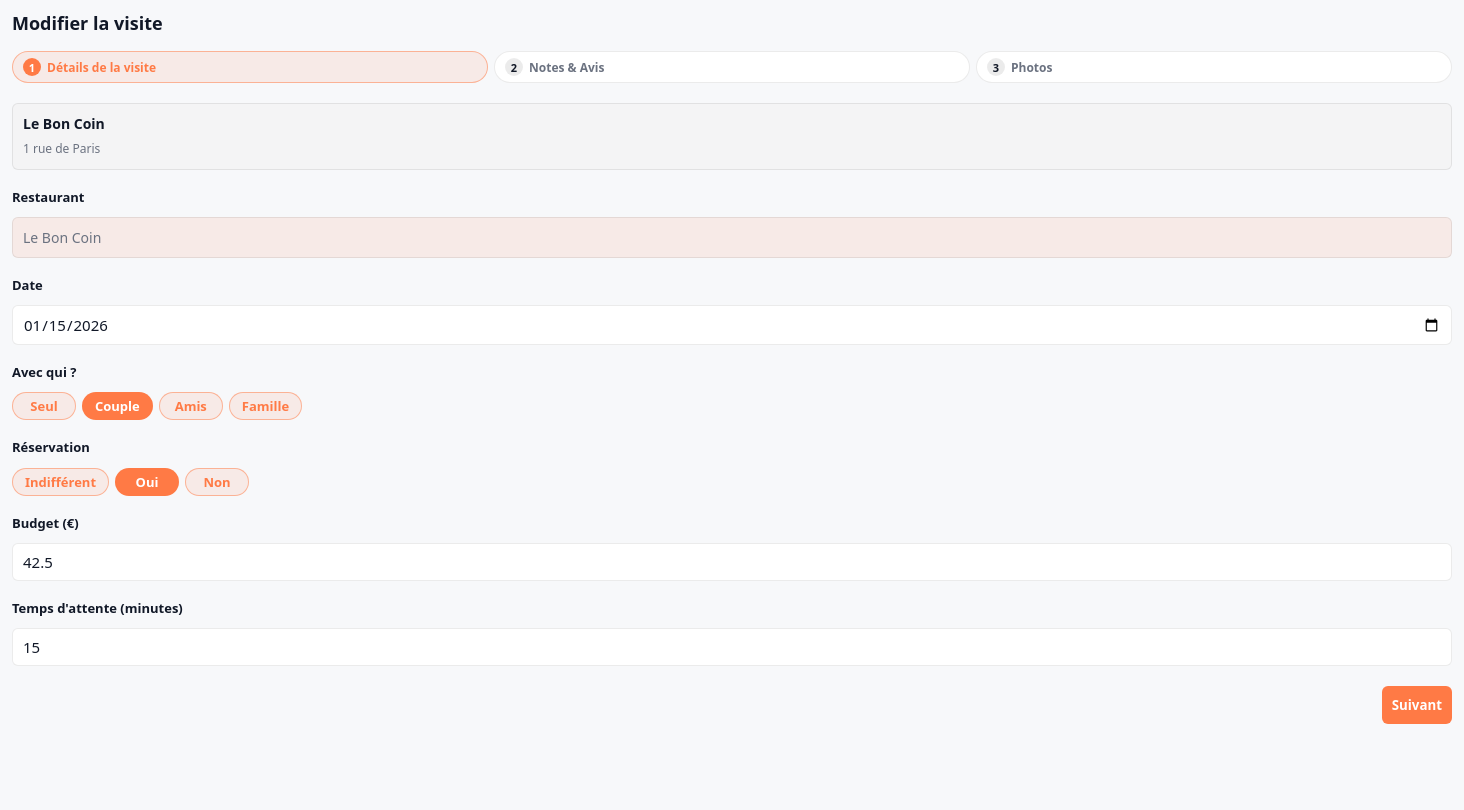
Test: AddVisitForm › affiche la note et le commentaire à l'étape "Notes & Avis"
Click the button "Suivant" at (1417, 705), box [1382,686,1452,724]
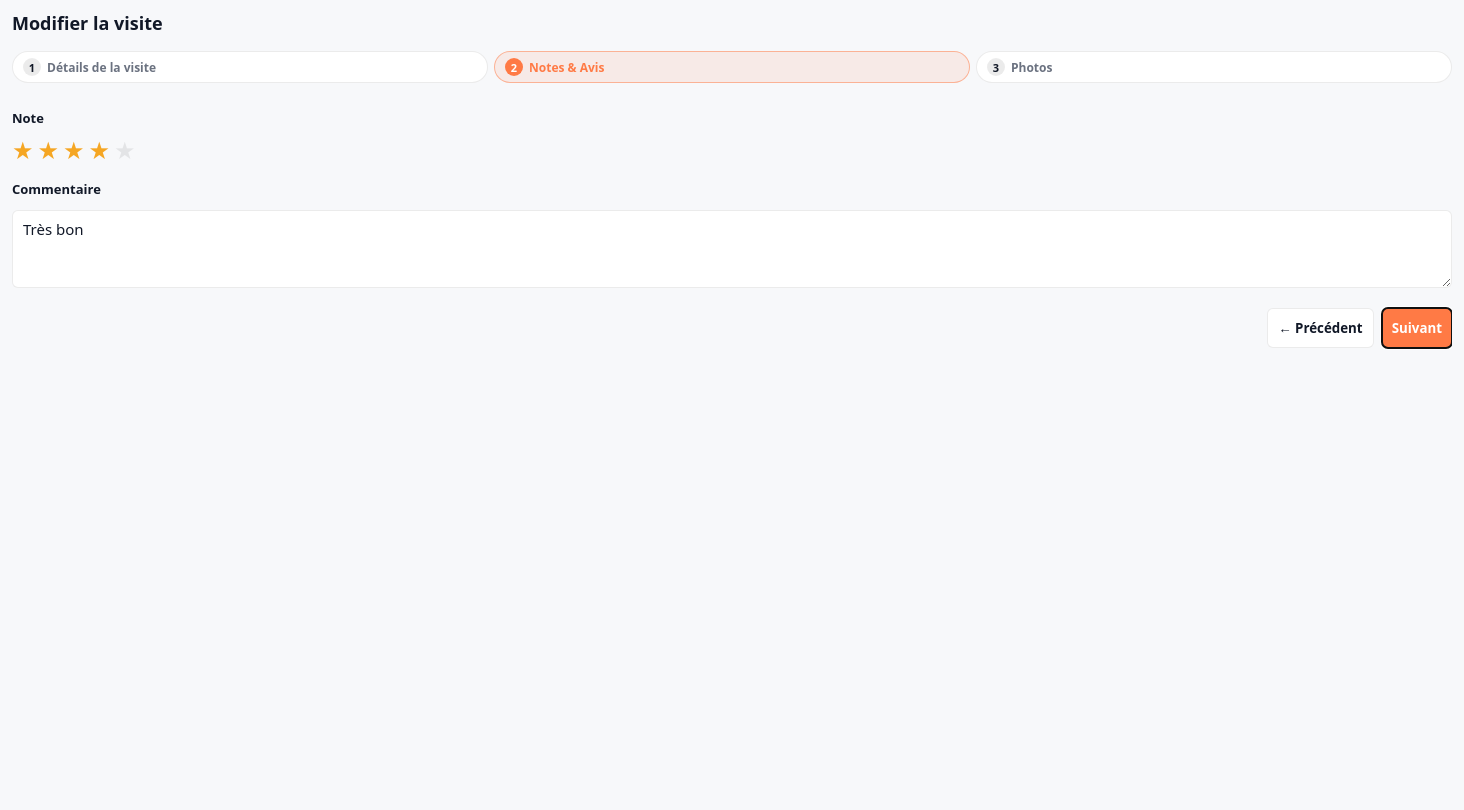
Expected: the element named "Note" is shown, [12,138,136,162]
Expected: the text box labelled "Commentaire" holds "Très bon", [12,210,1452,288]
